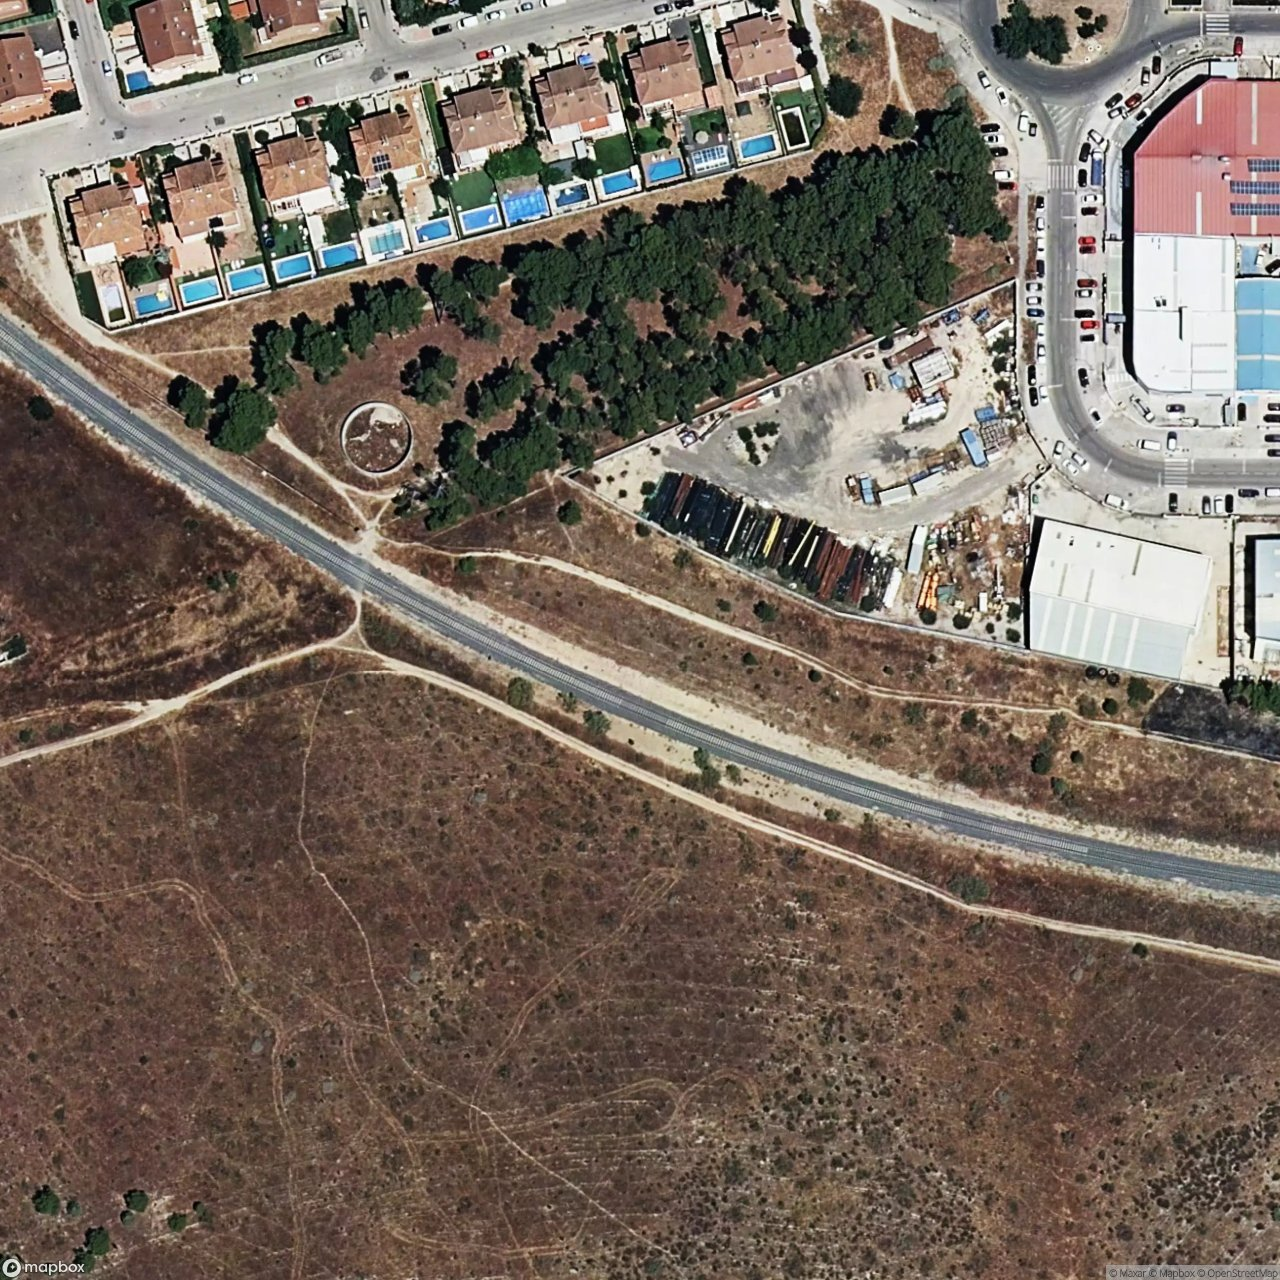dump_site: (917, 481, 1044, 644)
